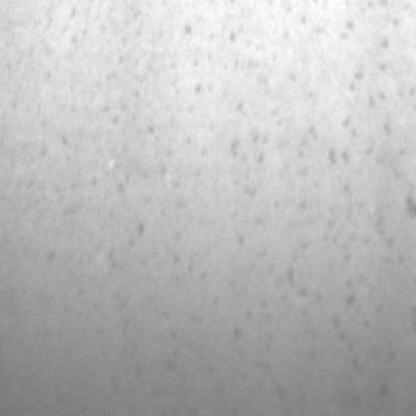pitted_surface: (228, 0, 403, 391), (33, 4, 196, 289)
